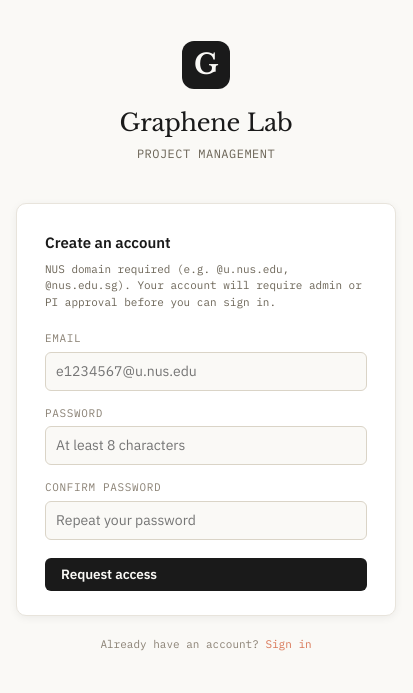
it: RegisterPage › shows API error message when registration fails
The width and height of the screenshot is (413, 693).
Step 1. Type "user@gmail.com" into the field with placeholder "e1234567@u.nus.edu" → (206, 371), box [45,352,367,391]
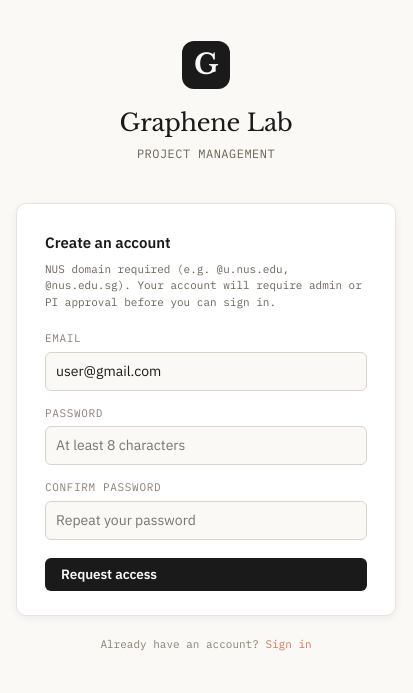
Step 2. Type "password123" into the password field with placeholder "At least 8 characters" → (206, 446), box [45,426,367,465]
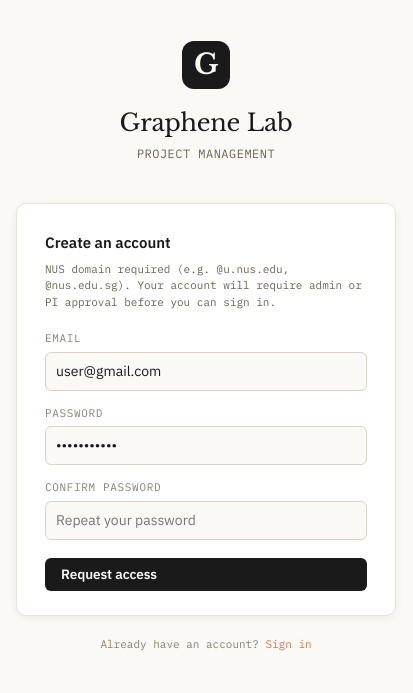
Step 3. Type "password123" into the password field with placeholder "Repeat your password" → (206, 520), box [45,501,367,540]
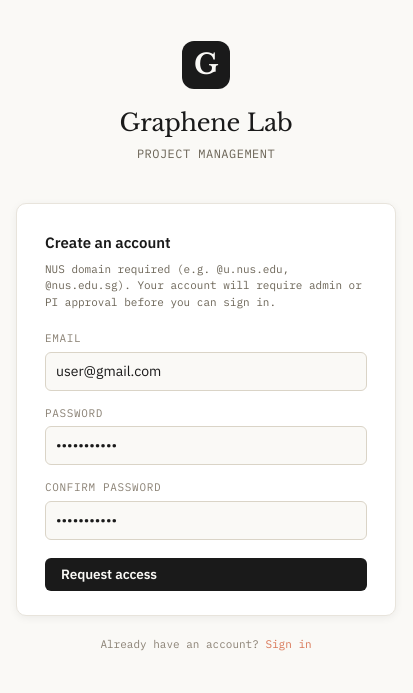
Step 4. Click the button "Request access" → click(109, 574), box [45,558,367,591]
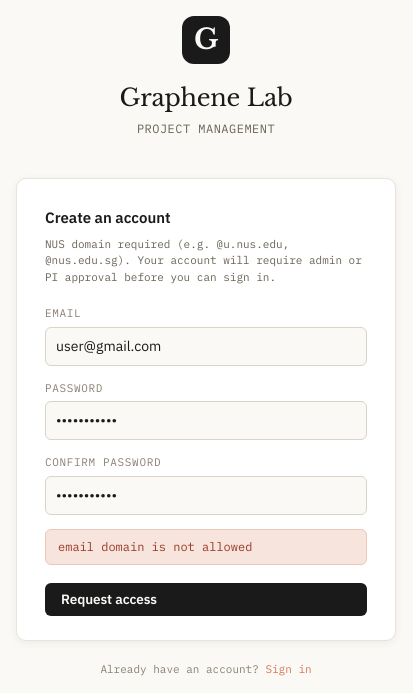
expect the text "email domain is not allowed" is shown: met, box [45,529,367,565]
